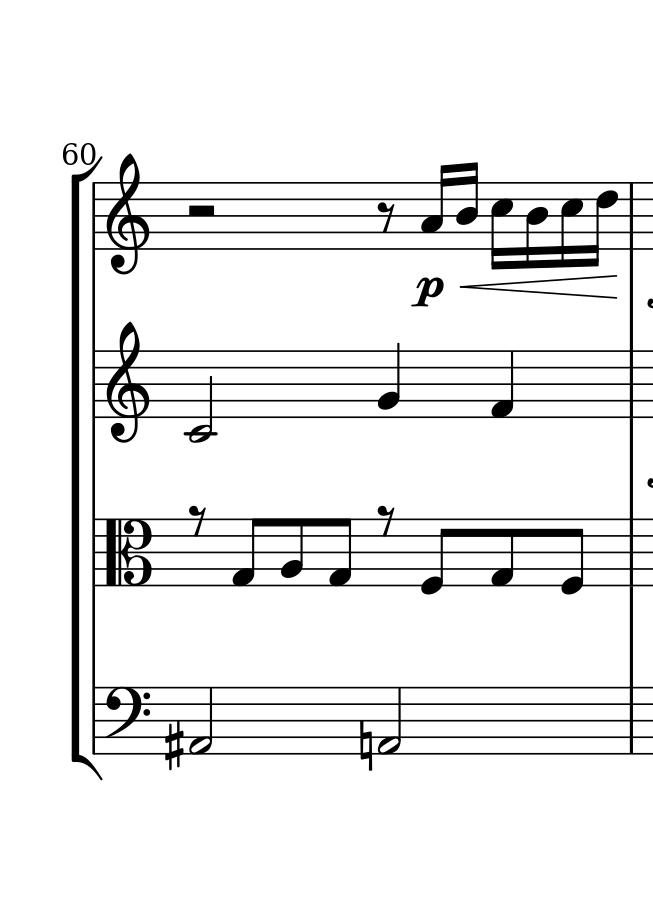0: (80, 139, 96, 167)
16_3: (418, 163, 453, 250)
16_4: (525, 178, 551, 270), (455, 161, 480, 252)
16_5: (489, 180, 516, 271), (557, 179, 583, 271)
16_6: (585, 179, 620, 269)
2_-2: (184, 347, 217, 446)
2_1: (188, 684, 215, 757), (377, 684, 403, 755)
4_1: (486, 349, 515, 419)
4_2: (377, 341, 403, 420)
6: (59, 139, 79, 167)
8_0: (416, 516, 457, 596), (557, 517, 586, 596)
8_1: (230, 516, 265, 589), (486, 515, 516, 589), (327, 515, 353, 590)
8_2: (279, 516, 307, 590)
Bracke: (69, 154, 103, 779)
Cclef: (105, 516, 151, 587)
Crescendo_hairpin: (461, 274, 617, 302)
Fclef: (105, 685, 151, 755)
Gclef: (105, 315, 153, 446), (104, 153, 150, 276)
Natural: (357, 718, 374, 773)
Rests2: (182, 199, 221, 222)
Rests8: (184, 497, 214, 535), (375, 500, 398, 535), (375, 199, 396, 236)
Sharp: (165, 720, 183, 773)
Single_barline: (85, 519, 104, 585), (623, 518, 641, 586), (86, 182, 103, 252), (623, 351, 641, 417), (86, 351, 103, 420), (623, 687, 640, 753), (87, 686, 103, 755), (624, 182, 640, 250)
p: (409, 275, 449, 313)
